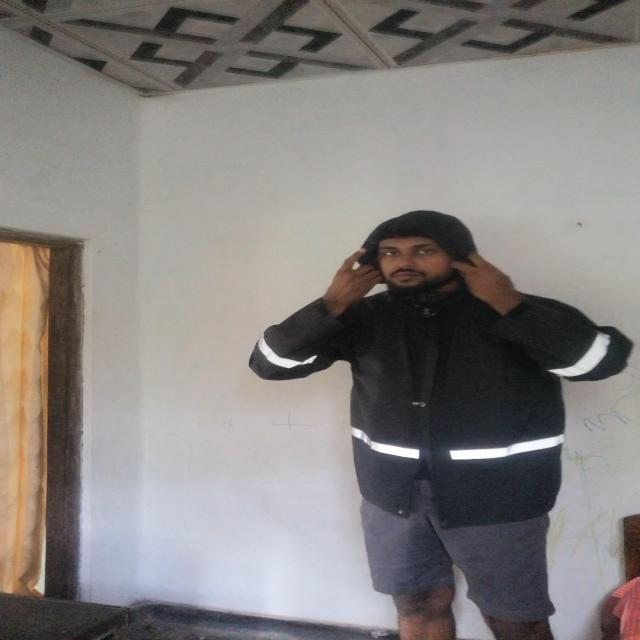Jacket_Wearer: (288, 203, 640, 538)
